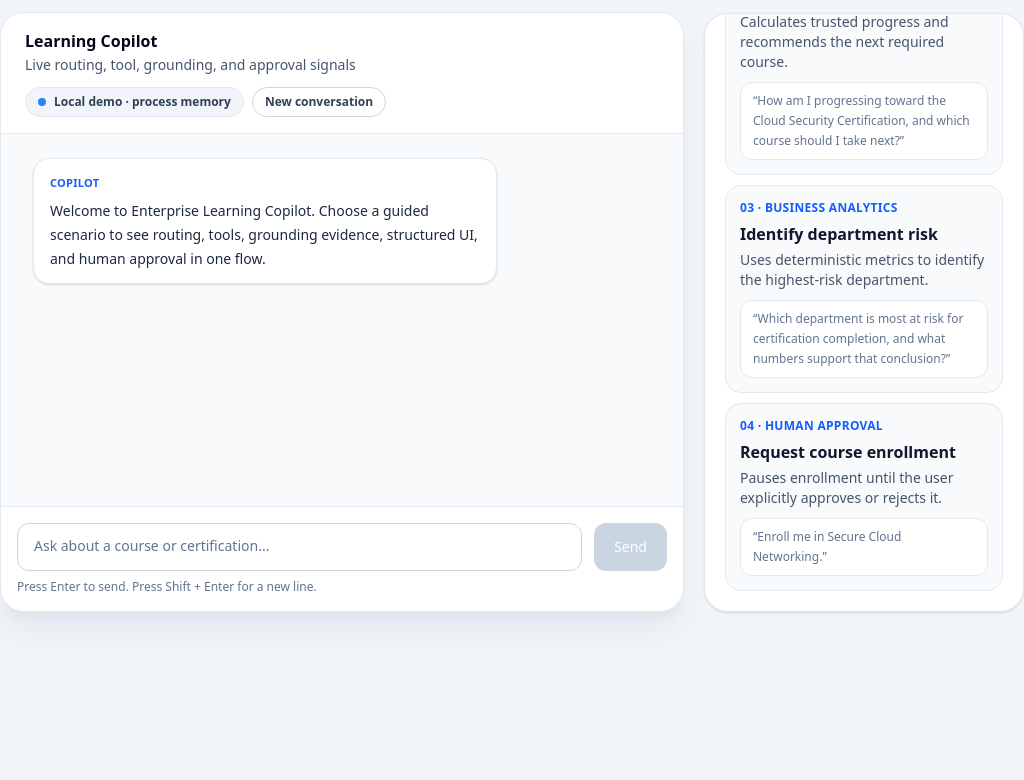
Scenario: ChatContainer presentation flow › resolves a pending approval before starting a new thread
(page scrolled)
What coordinates should you click on to do the following:
click the button "Request course enrollment"
I would click on:
 (864, 497)
Its box is [725,403,1003,591].
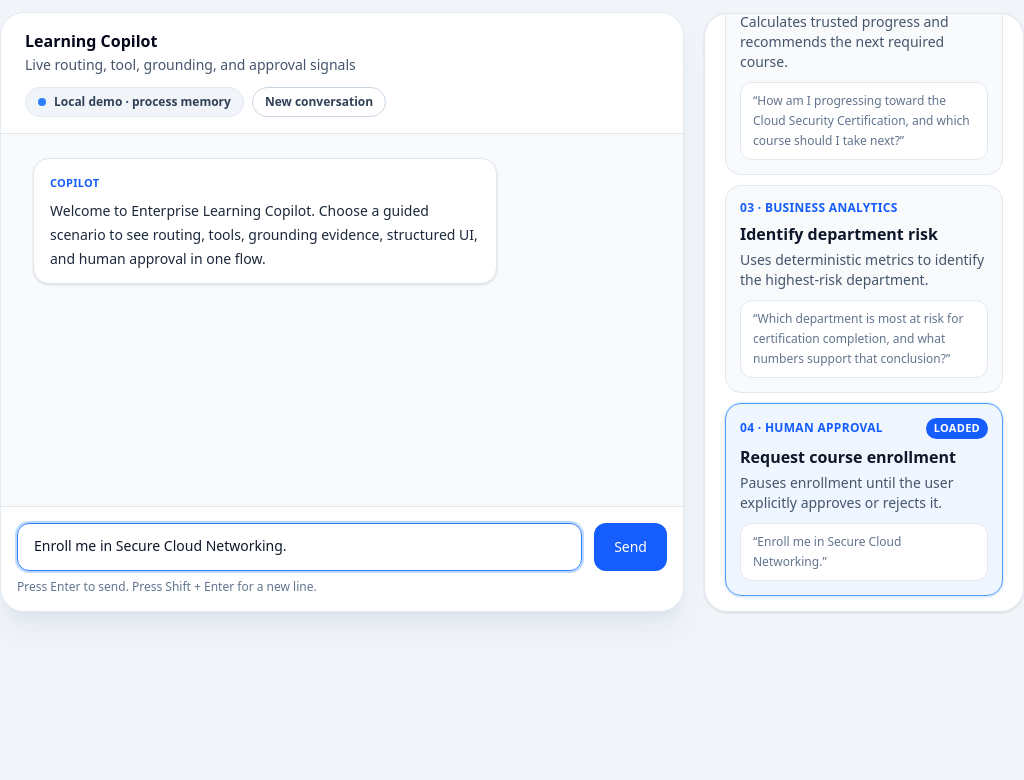
What coordinates should you click on to do the following:
click the button "Send"
I would click on:
 (631, 547)
Its box is [594,523,667,571].
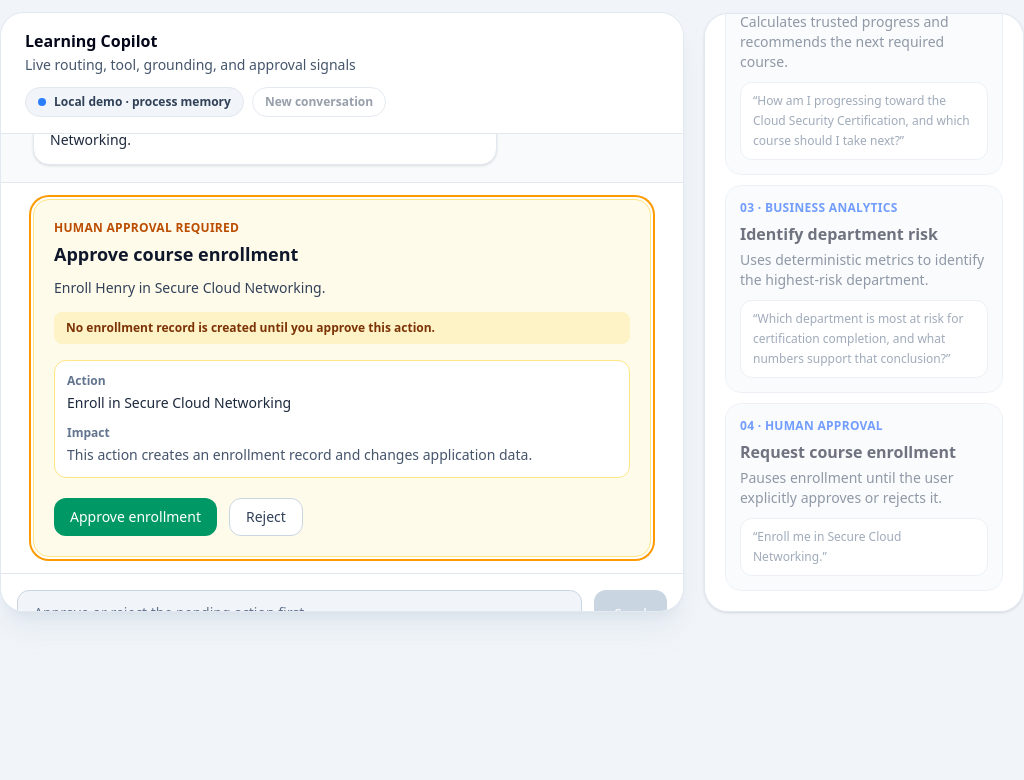
Expected: the element "Approve course enrollment" is shown, [33,199,651,557]
Expected: the button "New conversation" is disabled, [252,87,386,117]
What coordinates should you click on to do the following:
click the button "Reject"
I would click on:
 (266, 517)
Its box is [229,498,303,536].
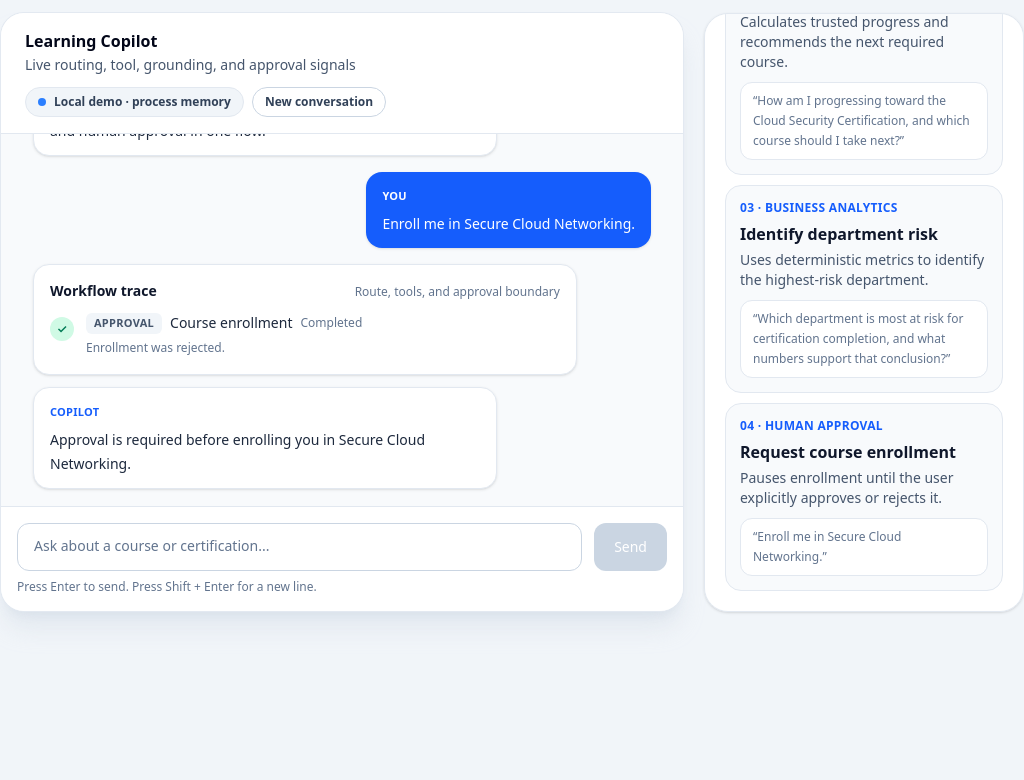
Expected: the button "New conversation" is enabled
What coordinates should you click on to do the following:
click the button "New conversation"
I would click on:
 (319, 102)
Its box is [252,87,386,117].
(page scrolled)
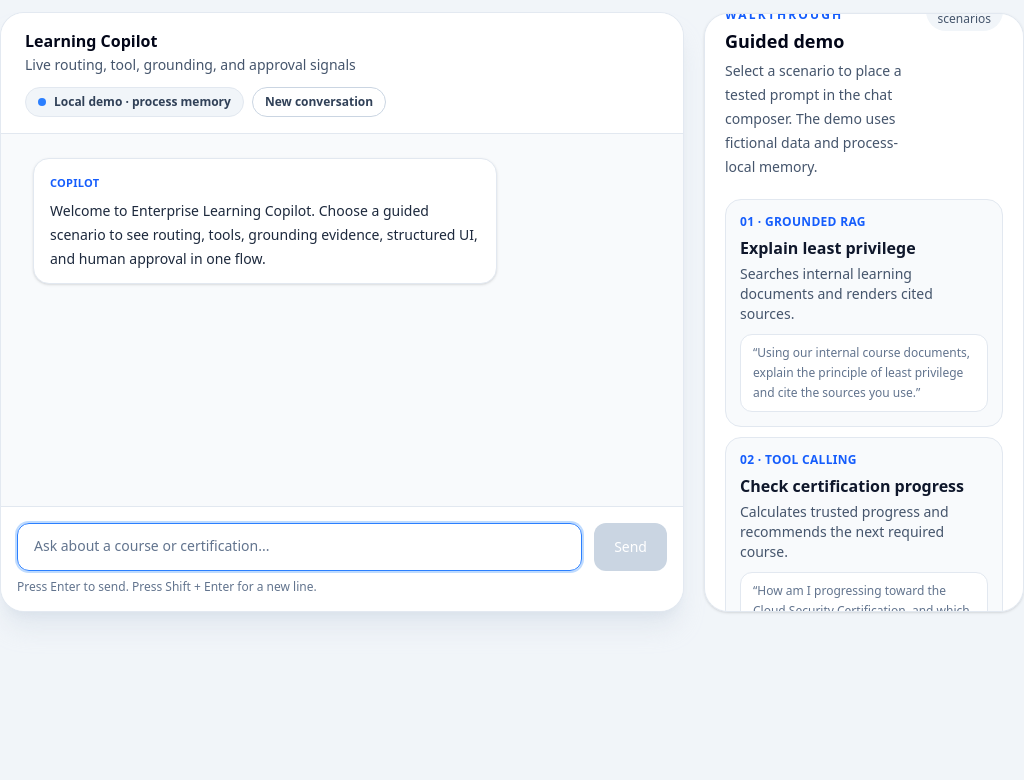
Expected: the text box named "Ask the learning copilot a question" is enabled, [17,523,582,571]
Expected: the text box named "Ask the learning copilot a question" is empty, [17,523,582,571]
Expected: the text "Welcome to Enterprise Learning Copilot" is shown, [50,201,481,268]
What coordinates should you click on to do the following:
click the button "Explain least privilege"
I would click on:
 (803, 221)
Its box is [725,199,1003,427].
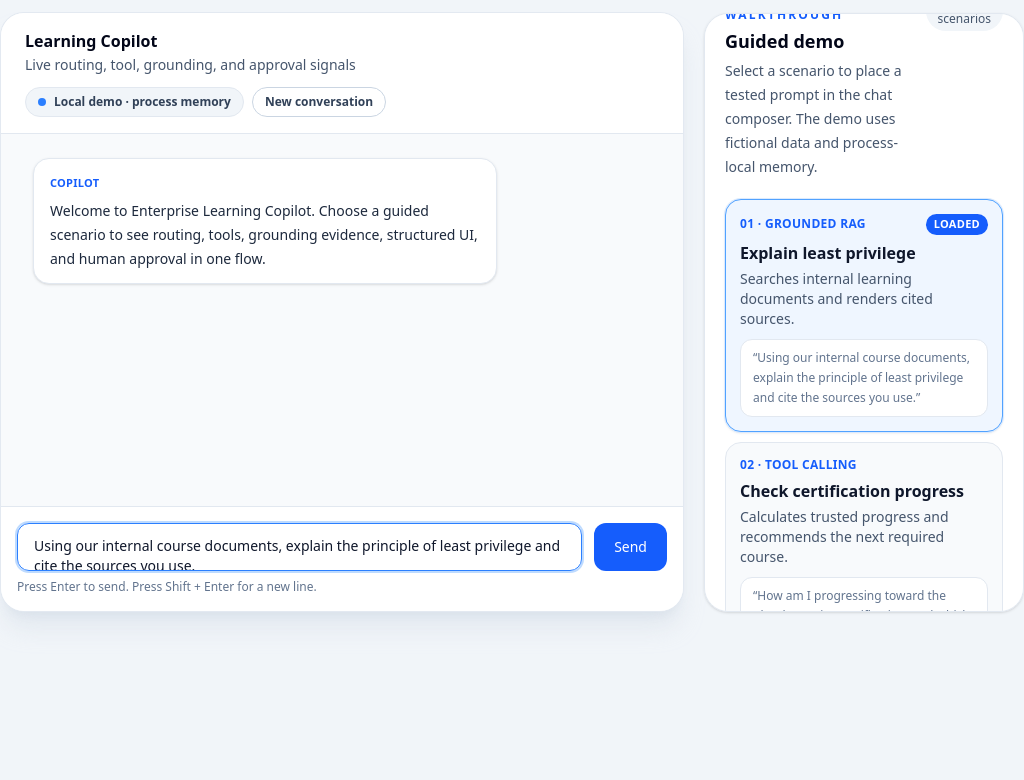
What coordinates should you click on to do the following:
click the button "Send"
I would click on:
 (631, 547)
Its box is [594,523,667,571].
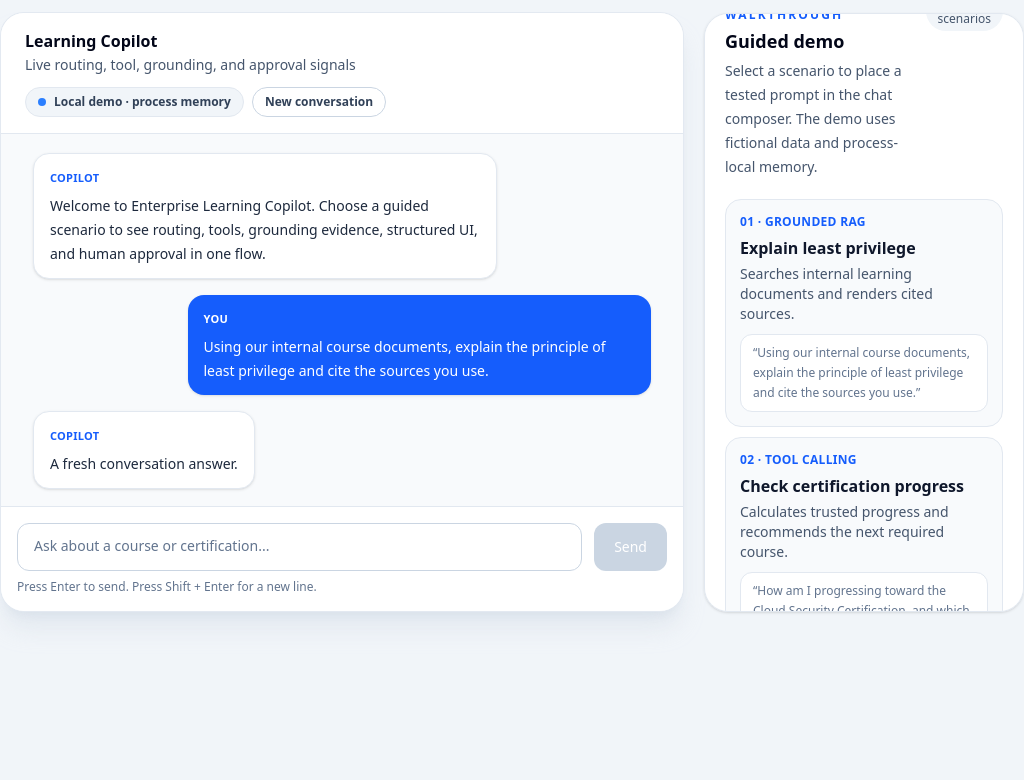
Expected: the text "A fresh conversation answer." is shown, [50,452,238,476]
